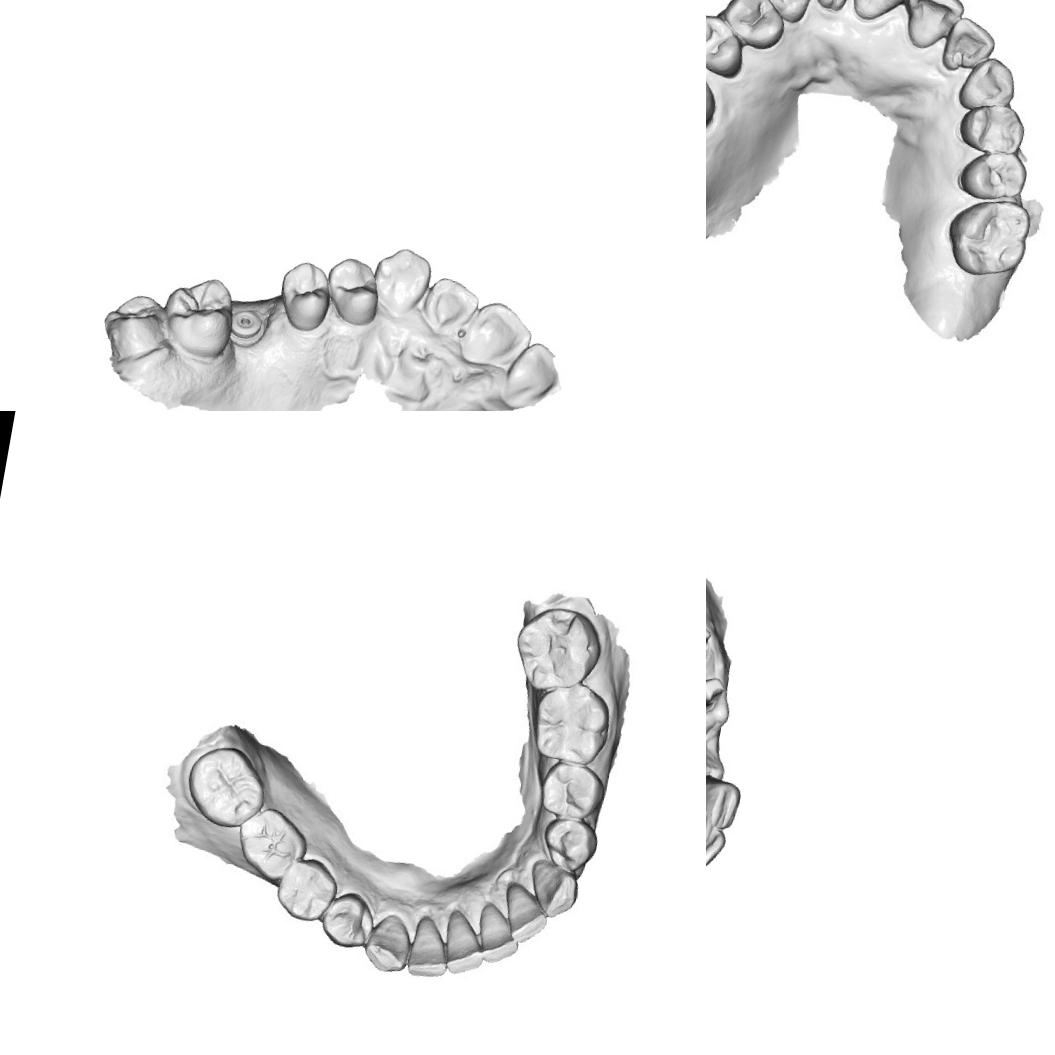abutment: (706, 670, 731, 717), (706, 619, 717, 673)
canine: (366, 241, 434, 320), (520, 853, 584, 925), (952, 51, 1022, 116), (360, 908, 415, 977), (754, 0, 820, 30)
implant: (229, 305, 273, 346)
incisor: (454, 296, 538, 375), (496, 335, 563, 411), (414, 272, 484, 341), (488, 874, 554, 946), (933, 14, 1000, 81), (895, 0, 965, 58), (405, 916, 454, 982), (440, 907, 489, 971), (473, 903, 521, 960), (845, 0, 918, 30), (706, 772, 741, 834), (706, 818, 730, 887), (807, 0, 855, 12)
molar: (174, 739, 277, 836), (504, 599, 604, 696), (941, 187, 1037, 286), (228, 798, 316, 886), (157, 273, 241, 364), (525, 683, 611, 771), (94, 286, 172, 371), (706, 46, 725, 146)
premolar: (272, 253, 341, 336), (268, 852, 344, 926), (951, 98, 1029, 160), (536, 756, 606, 824), (958, 144, 1028, 211), (321, 256, 384, 327), (316, 886, 379, 952), (540, 817, 598, 879), (719, 0, 785, 53), (706, 8, 752, 78)
